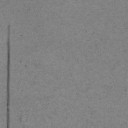surface scratch: (6, 26, 10, 128)
